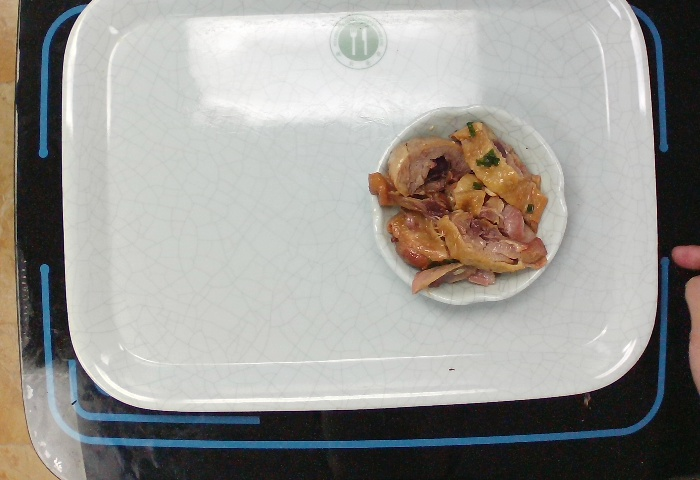JYsf-Ao_Yuan_Wan: (366, 101, 572, 310)
